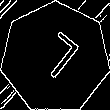L_SW: (28, 28, 82, 87)
